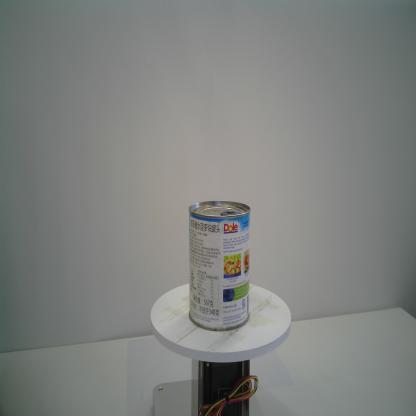Canned Food: (188, 200, 252, 332)
